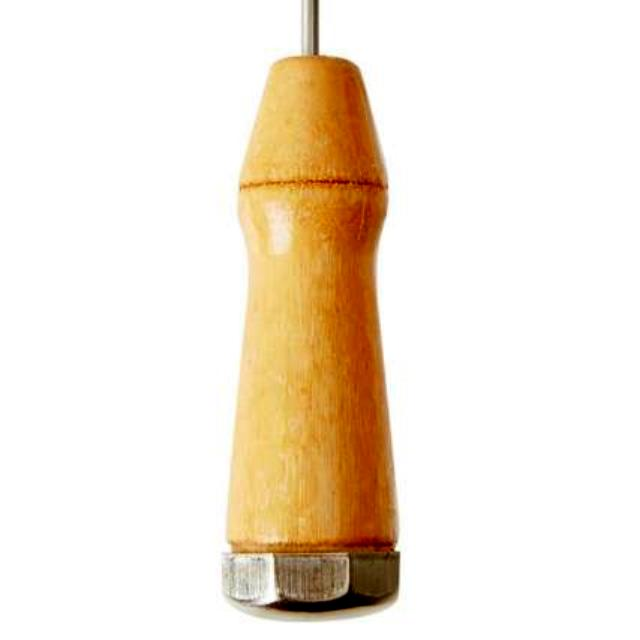ice pick: (219, 1, 407, 627)
